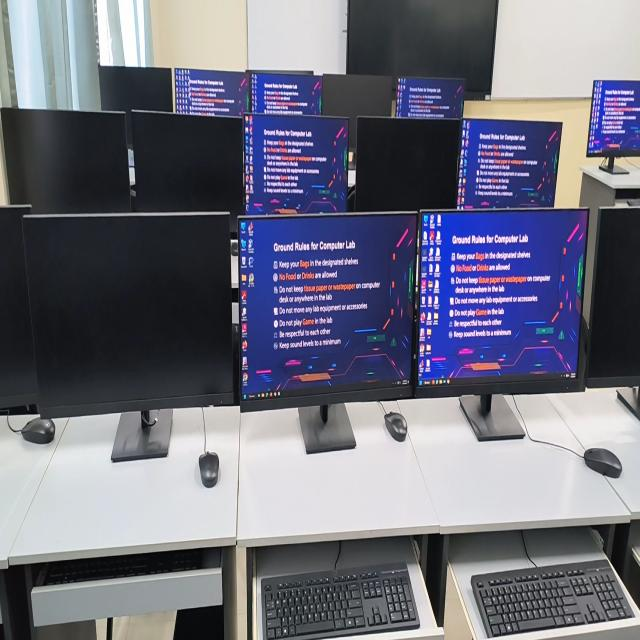Chair: (570, 316, 587, 391)
Cpu: (173, 606, 224, 639)
Digital board: (346, 0, 498, 99)
Keyboard: (260, 562, 420, 639), (471, 561, 633, 636), (37, 549, 202, 585)
Monitor: (24, 214, 235, 462), (239, 213, 417, 453), (418, 209, 587, 440), (0, 109, 131, 213), (130, 112, 244, 231), (587, 207, 640, 420), (244, 114, 348, 213), (355, 117, 462, 211), (457, 120, 562, 209), (0, 205, 37, 414), (99, 66, 172, 149), (322, 74, 394, 151), (587, 80, 640, 174), (174, 68, 250, 116), (250, 72, 321, 114), (396, 77, 464, 118)
Mouse: (584, 448, 622, 478), (20, 417, 55, 444), (199, 452, 219, 488), (385, 412, 407, 441), (231, 239, 237, 255)
